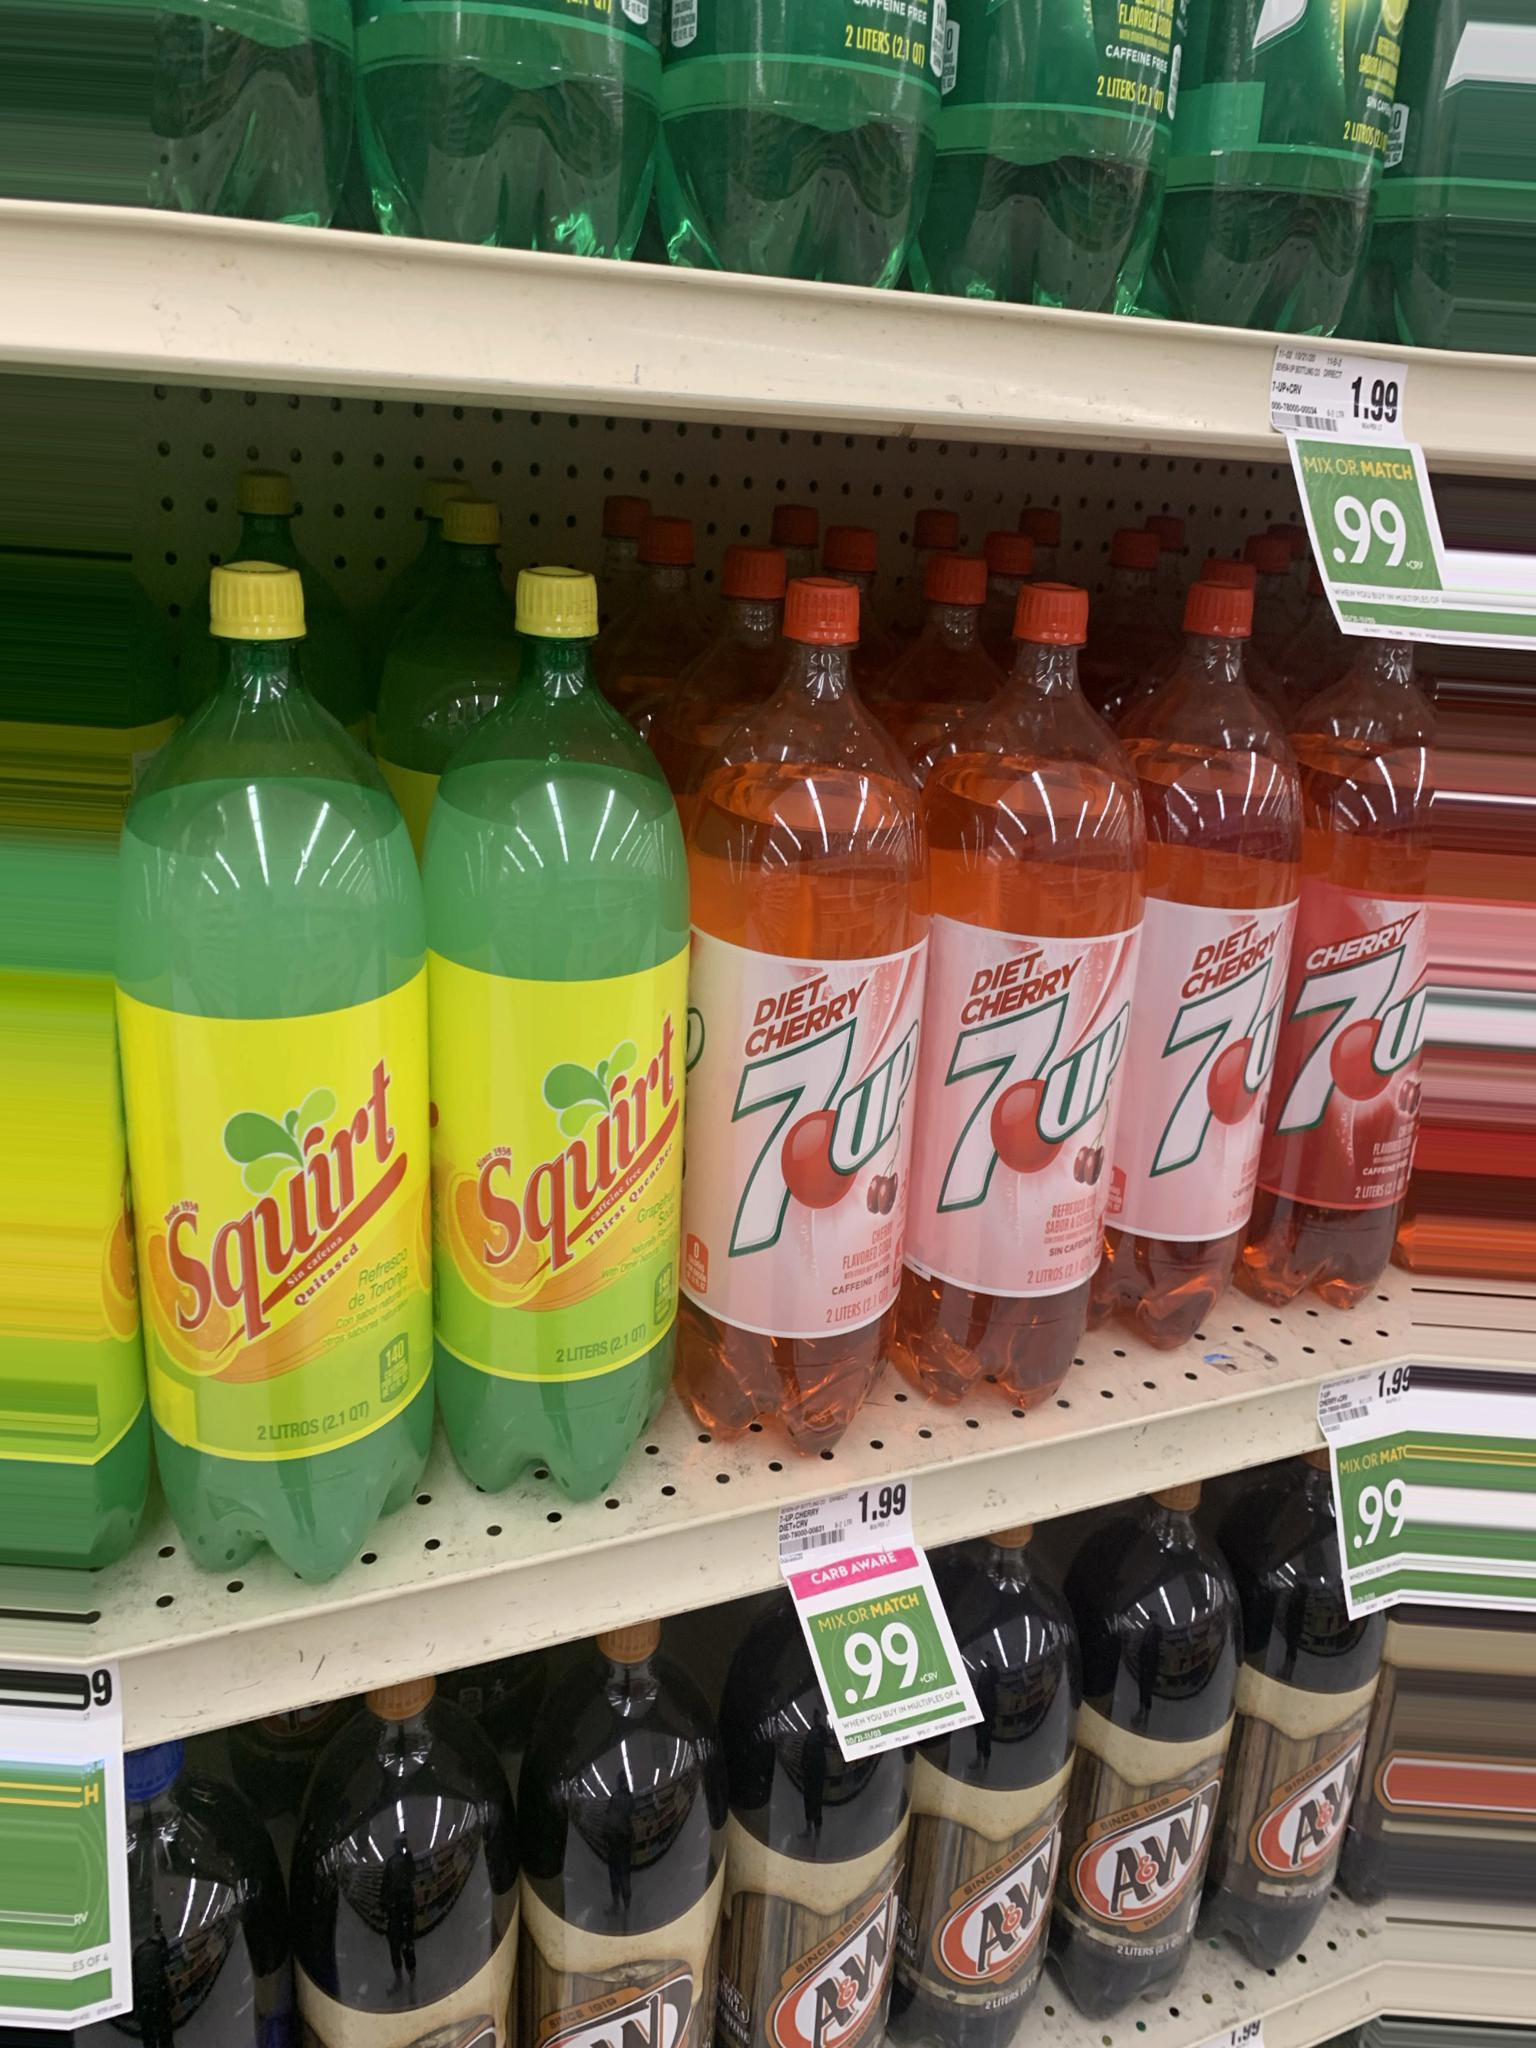soda: (131, 582, 400, 1545), (424, 590, 666, 1492), (710, 597, 907, 1443), (947, 587, 1113, 1430), (1149, 590, 1271, 1371), (297, 1687, 502, 2048), (1075, 1517, 1217, 2008), (561, 1667, 708, 2048), (1254, 1480, 1349, 1969)
